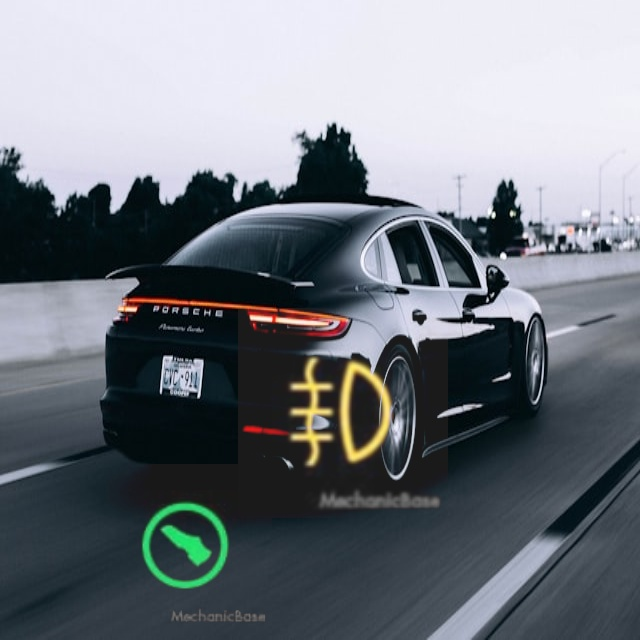symbol: (238, 308, 448, 518), (106, 464, 272, 630)
